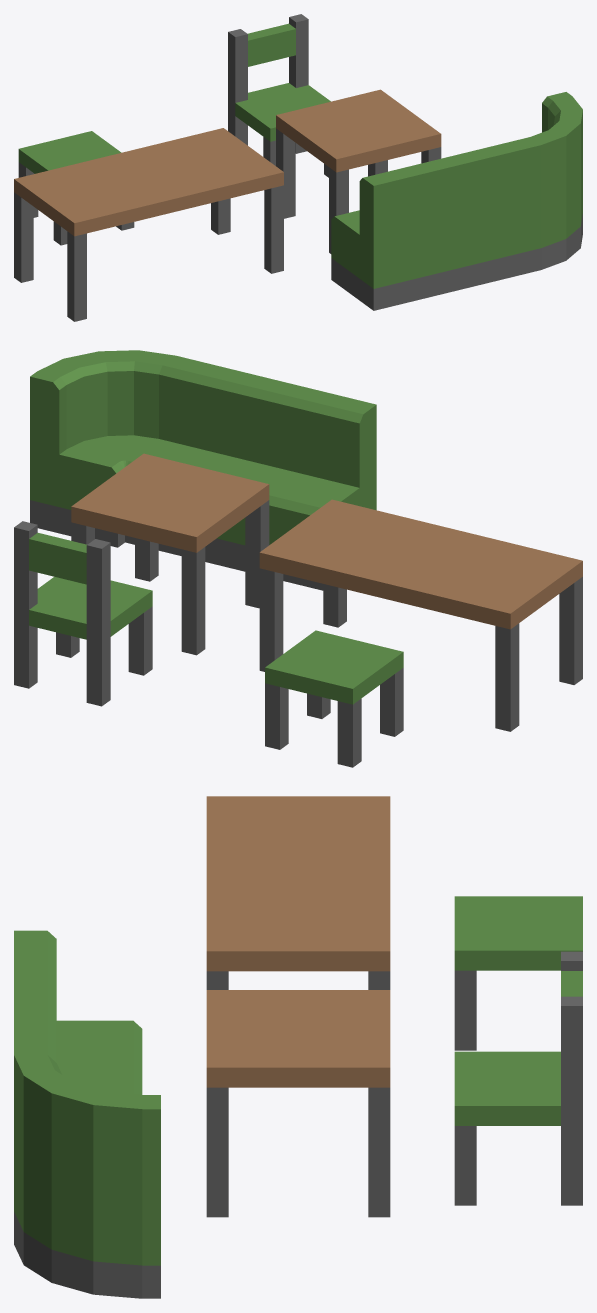
The model's file is Seating01.fbx.
3 views of the same model, one above another, from view 1: azimuth 30°, elevation 25°; view 2: azimuth 150°, elevation 25°; view 3: azimuth 270°, elevation 25° (orthographic). The views are drawn at different scales.
Visible parts, largest first — view 1: Sofa, Table_Long, Table, Sofa_Corner, Chair, Stool; view 2: Table_Long, Sofa, Sofa_Corner, Table, Chair, Stool; view 3: Table_Long, Sofa_Corner, Table, Chair, Stool, Sofa.
Boxes of the visible parts, x1=… form: Sofa: x1=331, y1=139, x2=530, y2=310; Table_Long: x1=14, y1=128, x2=283, y2=321; Table: x1=276, y1=89, x2=441, y2=253; Sofa_Corner: x1=520, y1=92, x2=582, y2=272; Chair: x1=228, y1=14, x2=330, y2=177; Stool: x1=18, y1=131, x2=134, y2=245; Table_Long: x1=259, y1=499, x2=582, y2=731; Sofa: x1=153, y1=358, x2=376, y2=590; Sofa_Corner: x1=30, y1=350, x2=187, y2=547; Table: x1=71, y1=453, x2=269, y2=655; Chair: x1=14, y1=521, x2=152, y2=706; Stool: x1=265, y1=630, x2=403, y2=767; Table_Long: x1=206, y1=796, x2=390, y2=989; Sofa_Corner: x1=14, y1=1047, x2=160, y2=1298; Table: x1=206, y1=990, x2=390, y2=1217; Chair: x1=454, y1=951, x2=582, y2=1205; Stool: x1=454, y1=896, x2=582, y2=1050; Sofa: x1=14, y1=930, x2=142, y2=1094.
Size of the model in its own units: 4.55 by 1.2 by 3.1.
